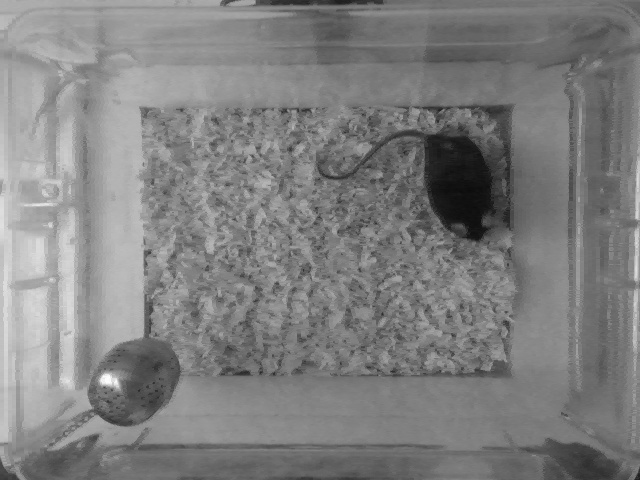mice: (315, 131, 490, 239)
